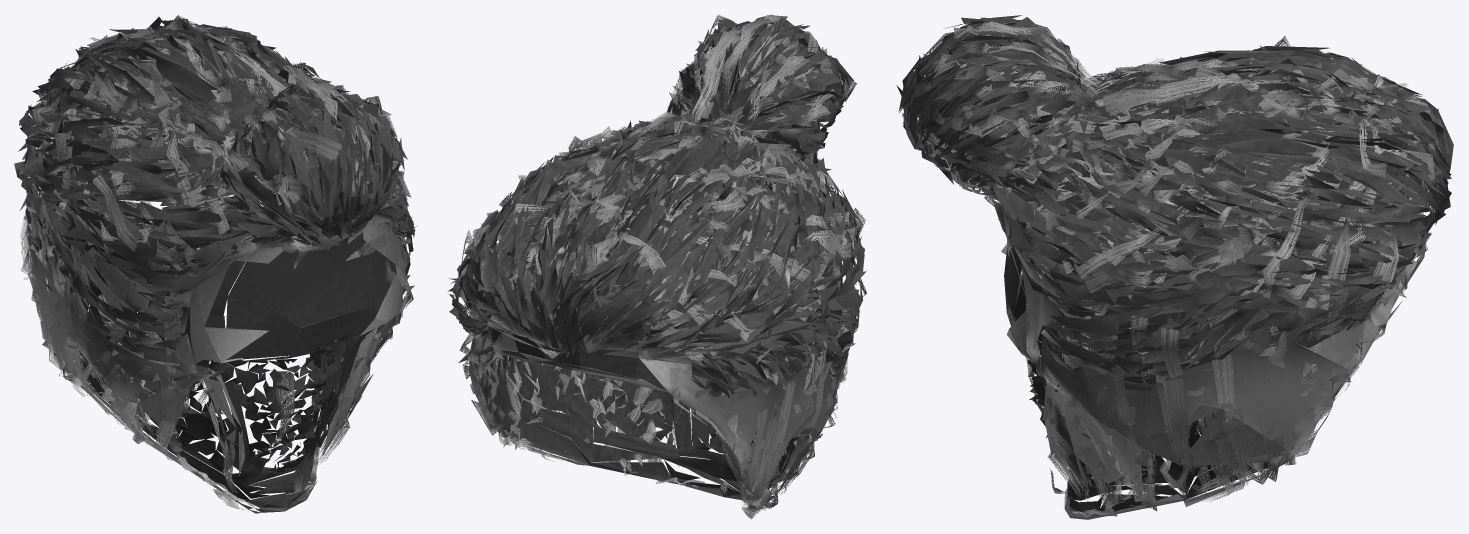
Rendered from hair_bun.glb.
3 views of the same model, side by side, from view 1: azimuth 30°, elevation 25°; view 2: azimuth 150°, elevation 25°; view 3: azimuth 270°, elevation 25° (orthographic). The views are drawn at different scales.
Visible parts, largest first — view 1: Mesh_0, haircards; view 2: Mesh_0, haircards; view 3: Mesh_0, haircards.
Boxes of the visible parts, box(x1,y1,x2,y2) form: Mesh_0: box(14, 17, 416, 513); haircards: box(18, 15, 413, 511); Mesh_0: box(447, 14, 866, 509); haircards: box(450, 14, 866, 519); Mesh_0: box(896, 15, 1453, 519); haircards: box(906, 17, 1441, 517).
Size of the model in its own units: 0.2244 by 0.3 by 0.3052.
2 materials, 2 textured.
